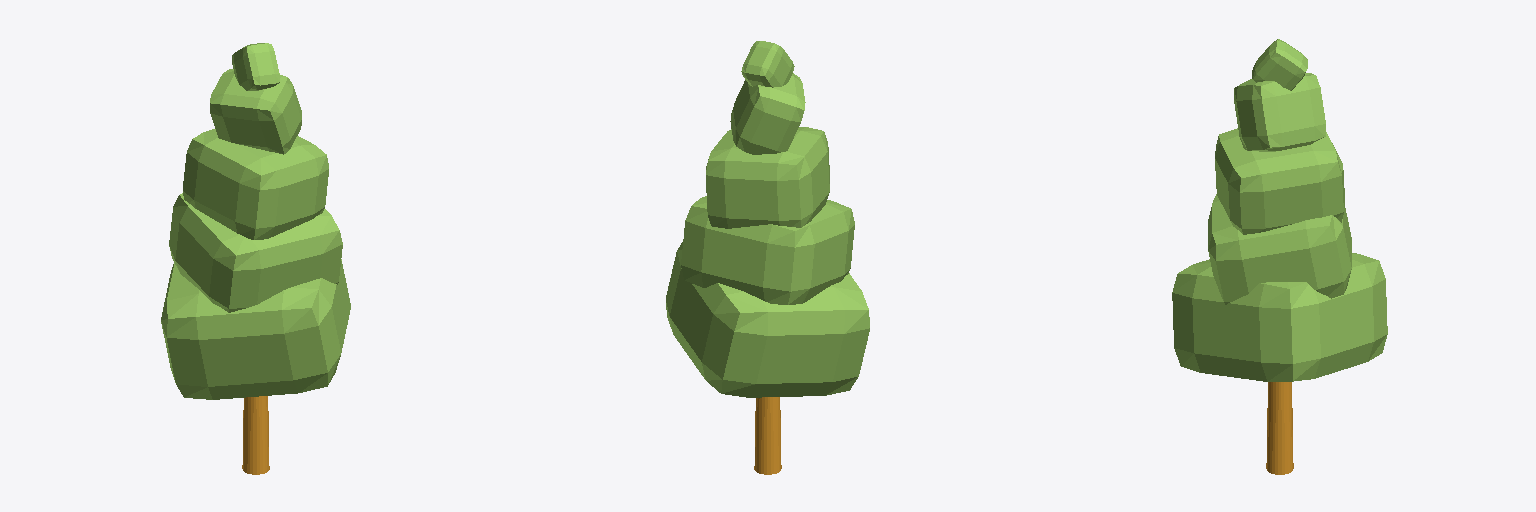
File: Tree1.obj
3 views of the same model, side by side, from view 1: azimuth 30°, elevation 25°; view 2: azimuth 150°, elevation 25°; view 3: azimuth 270°, elevation 25° (orthographic).
Visible parts, largest first — view 1: Rounded_Box_Copy, Rounded_Box, Rounded_Box_Copy_Copy, Tree1, Rounded_Box_Copy_Copy_Copy; view 2: Rounded_Box_Copy, Rounded_Box, Rounded_Box_Copy_Copy, Tree1, Rounded_Box_Copy_Copy_Copy; view 3: Rounded_Box, Rounded_Box_Copy, Rounded_Box_Copy_Copy, Tree1, Rounded_Box_Copy_Copy_Copy.
Boxes of the visible parts, <box> form: Rounded_Box_Copy: <box>169,129,342,312</box>; Rounded_Box: <box>161,259,350,399</box>; Rounded_Box_Copy_Copy: <box>210,69,301,154</box>; Tree1: <box>242,396,269,474</box>; Rounded_Box_Copy_Copy_Copy: <box>232,43,279,90</box>; Rounded_Box_Copy: <box>681,127,854,304</box>; Rounded_Box: <box>666,242,869,397</box>; Rounded_Box_Copy_Copy: <box>730,73,805,154</box>; Tree1: <box>754,397,781,474</box>; Rounded_Box_Copy_Copy_Copy: <box>741,41,794,87</box>; Rounded_Box: <box>1172,253,1387,381</box>; Rounded_Box_Copy: <box>1208,128,1351,304</box>; Rounded_Box_Copy_Copy: <box>1234,73,1325,151</box>; Tree1: <box>1266,382,1293,474</box>; Rounded_Box_Copy_Copy_Copy: <box>1252,39,1307,90</box>.
Size of the model in its own units: 2.44 by 5.18 by 2.38.